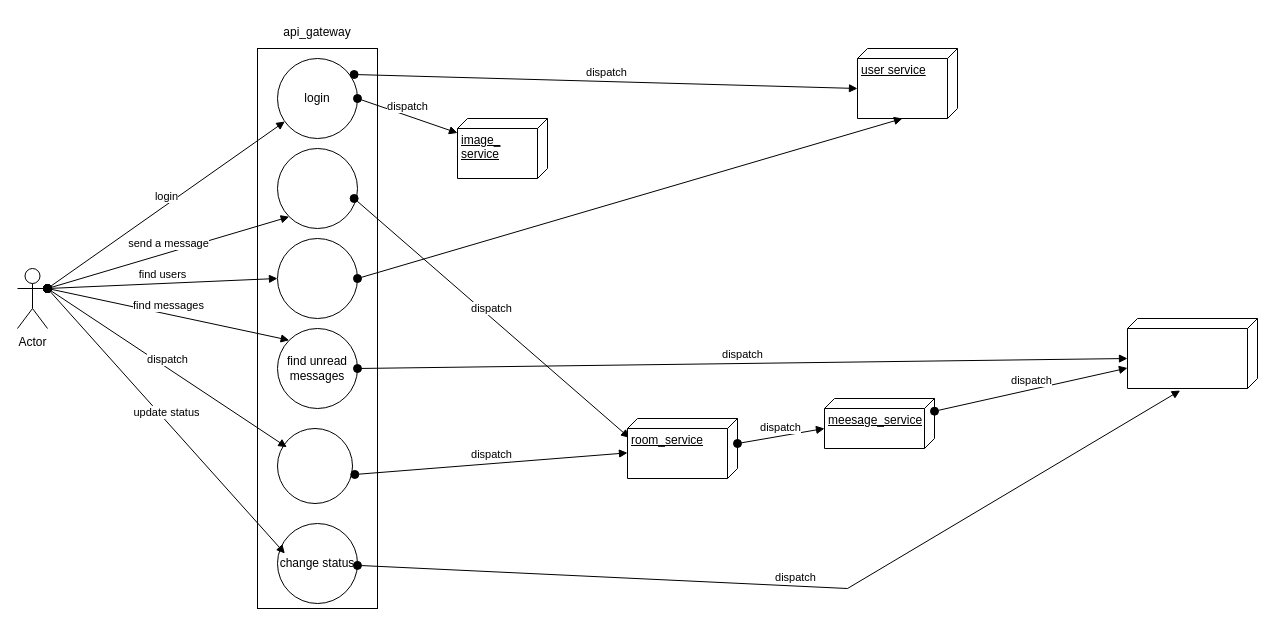
Some shapes in this 1275 by 626 pixel diagram are drawn without their labels. The box of each missing label's shape, as (x1, y1, x2, y2) in pixels:
find rooms with unread messages: (276, 428, 352, 504)
find user by name: (276, 238, 358, 318)
send message: (276, 148, 358, 228)
unread_ messages_service: (1126, 318, 1258, 388)
